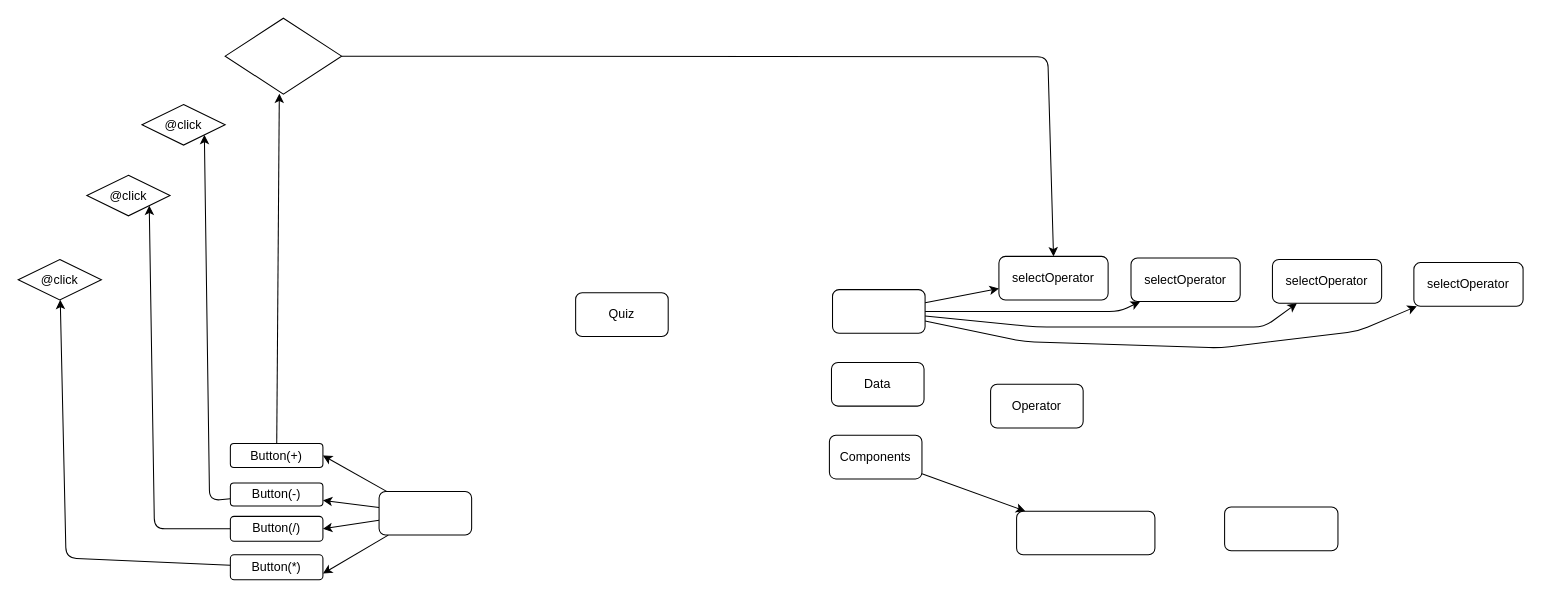
The diagram is 1541 pixels wide and 600 high, and some of its shapes have lost their labels. Here are the shapes that lost their labels. From the top down, the centre of each, then its label:
At point (283, 55): "@click: selectOperator".
At point (878, 311): "Methods".
At point (425, 512): "Button".
At point (1085, 532): "OperatorSelectorView".
At point (1281, 528): "OperatorQuiz".
